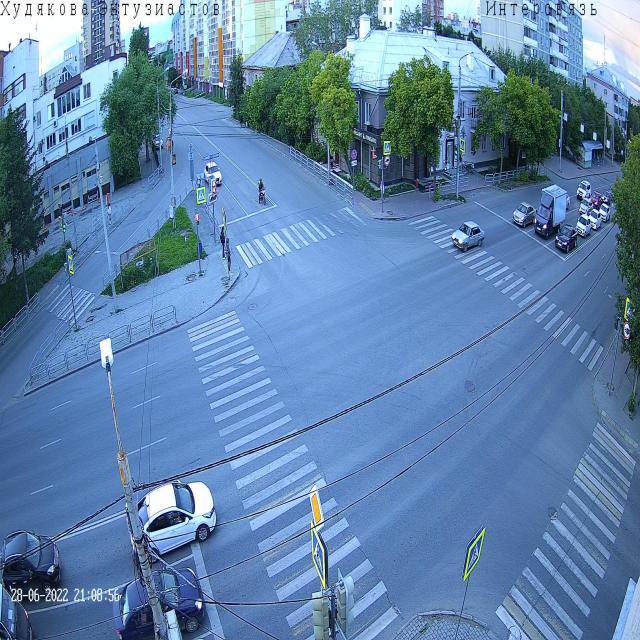car: (128, 478, 217, 565), (113, 563, 205, 640), (1, 528, 62, 606), (451, 219, 485, 253), (554, 223, 578, 254), (512, 201, 537, 228), (204, 161, 222, 188), (550, 190, 570, 212), (576, 213, 592, 239), (576, 179, 592, 202), (578, 197, 594, 218), (588, 208, 602, 231), (588, 190, 602, 212), (598, 202, 611, 224), (152, 133, 164, 150), (600, 189, 612, 206), (607, 186, 618, 202)
motorcycle: (258, 178, 266, 205)
pedestrian: (224, 236, 232, 274), (220, 225, 226, 261), (380, 180, 386, 204), (107, 202, 112, 225), (239, 113, 243, 129), (598, 155, 600, 167)
truck: (0, 577, 33, 640), (534, 184, 568, 241)
